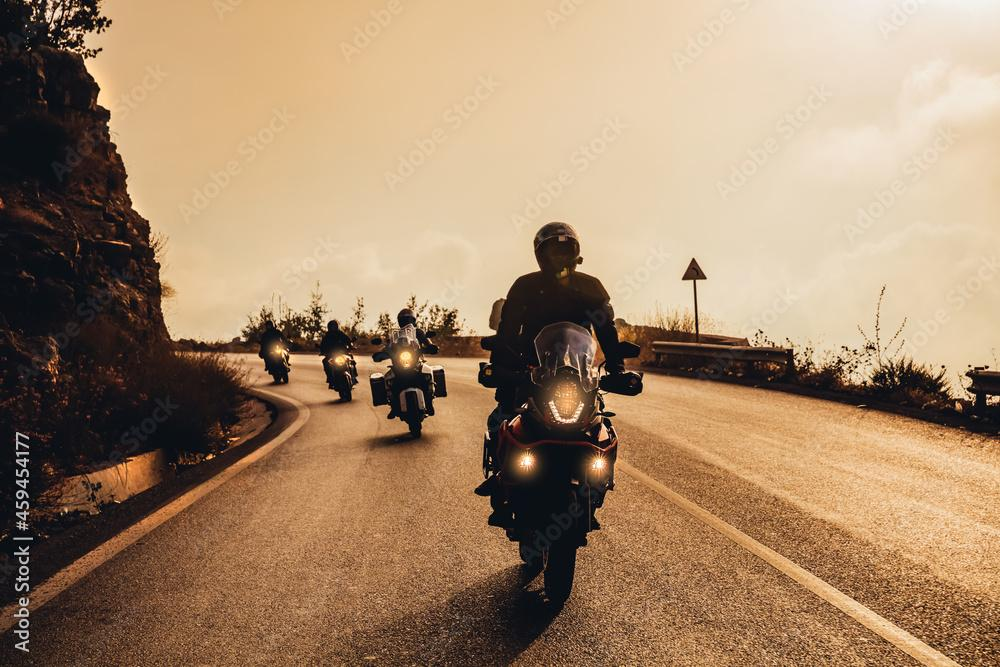helmet: (533, 221, 584, 281), (396, 307, 417, 332), (327, 319, 340, 334)
